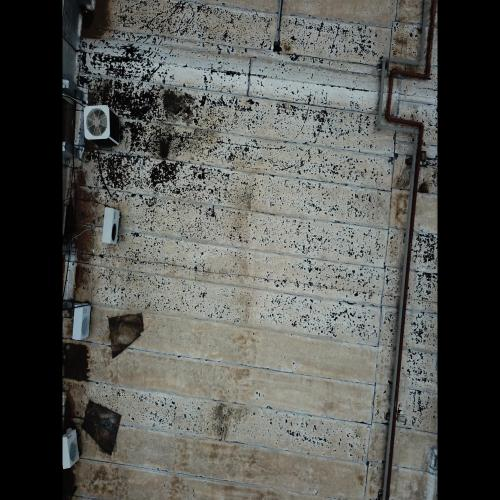conde: (81, 103, 126, 151), (73, 299, 97, 348), (61, 425, 81, 476), (103, 202, 123, 250)
